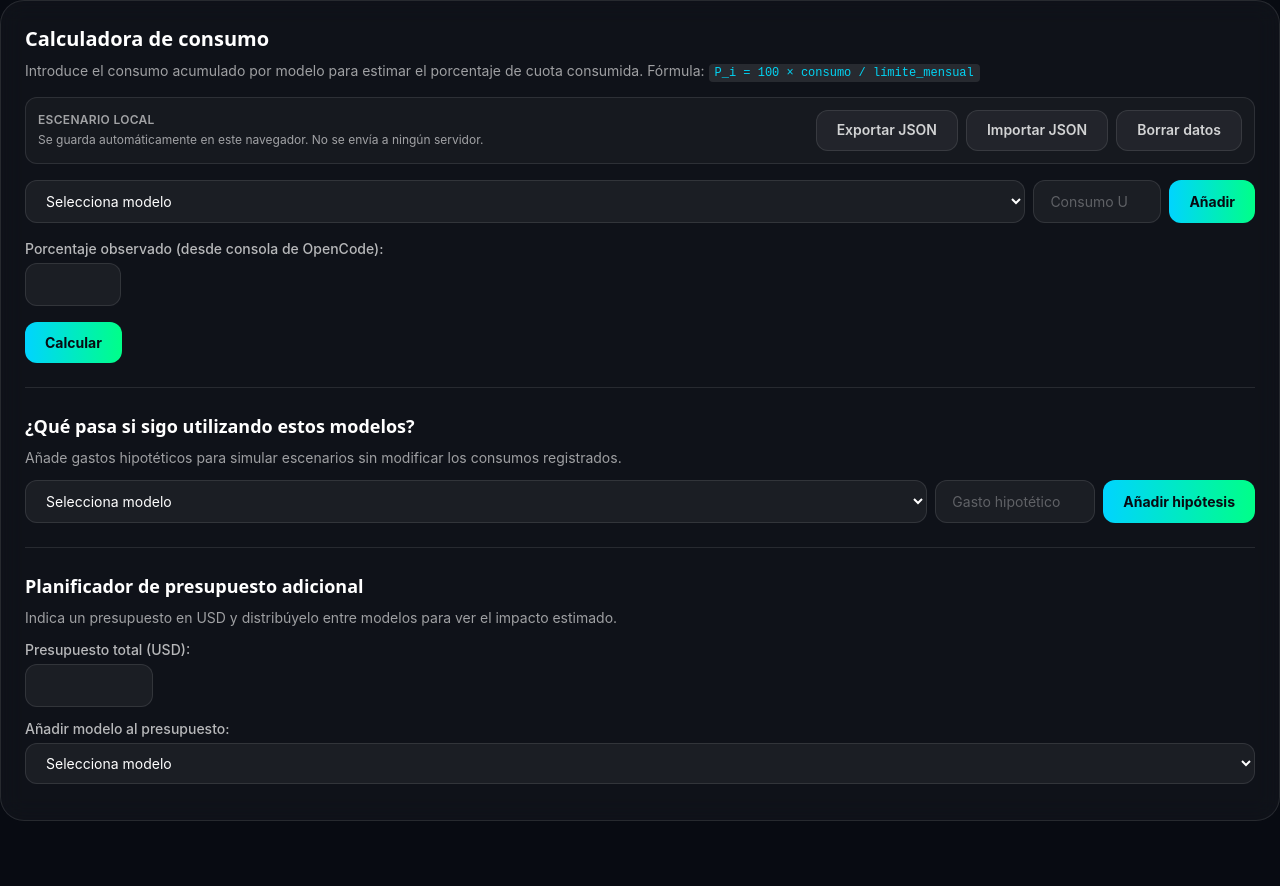
Test case: Calculator UI › adds consumption and calculates the shared quota
Expected: the heading "Calculadora de consumo" is shown, [25, 25, 269, 52]
Select "Kimi K3 ($15)" in the dropdown named "Seleccionar modelo" at point(525, 201), box [25, 180, 1025, 223]
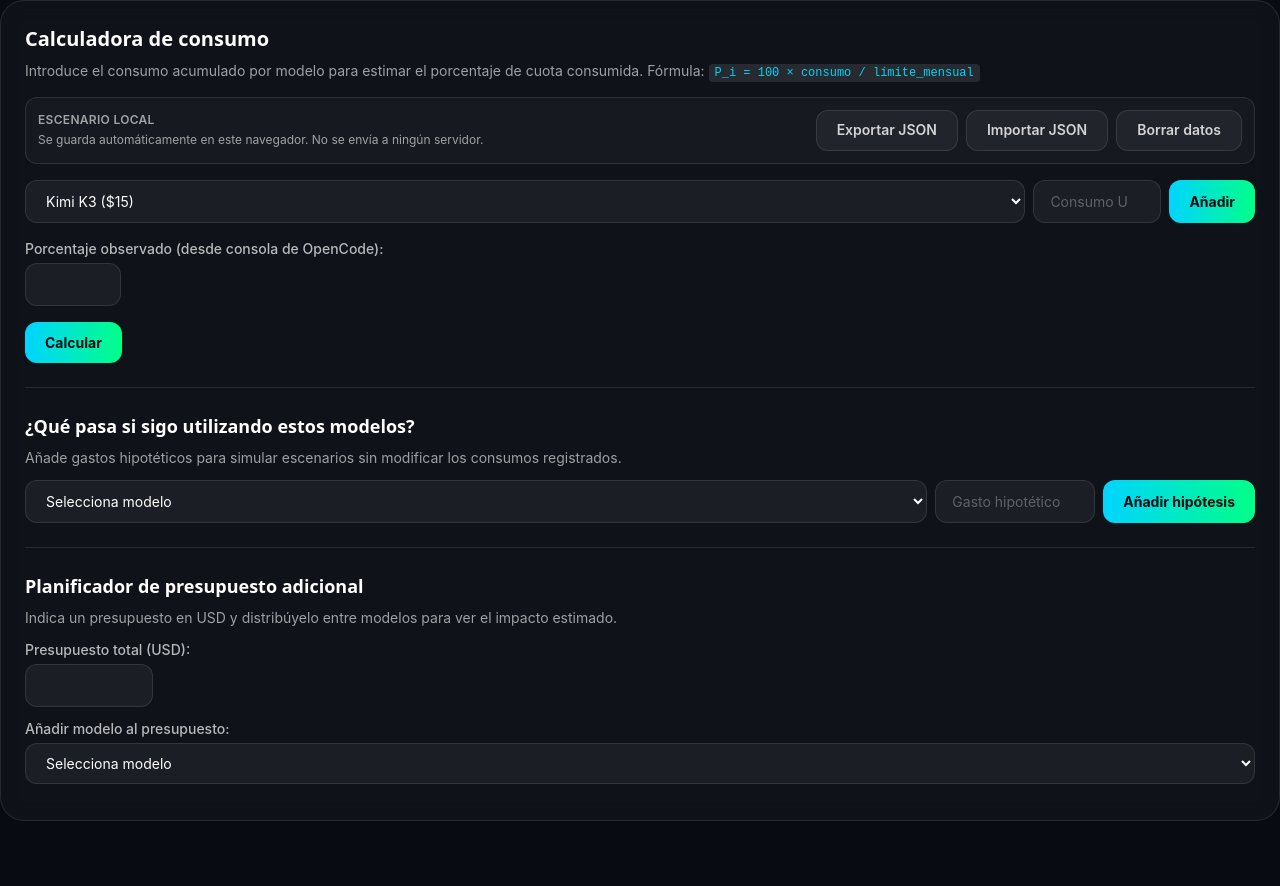
Type "7.5" into the number field named "Consumo en USD".
click(1097, 201); type("7.5")  # box [1033, 180, 1161, 223]
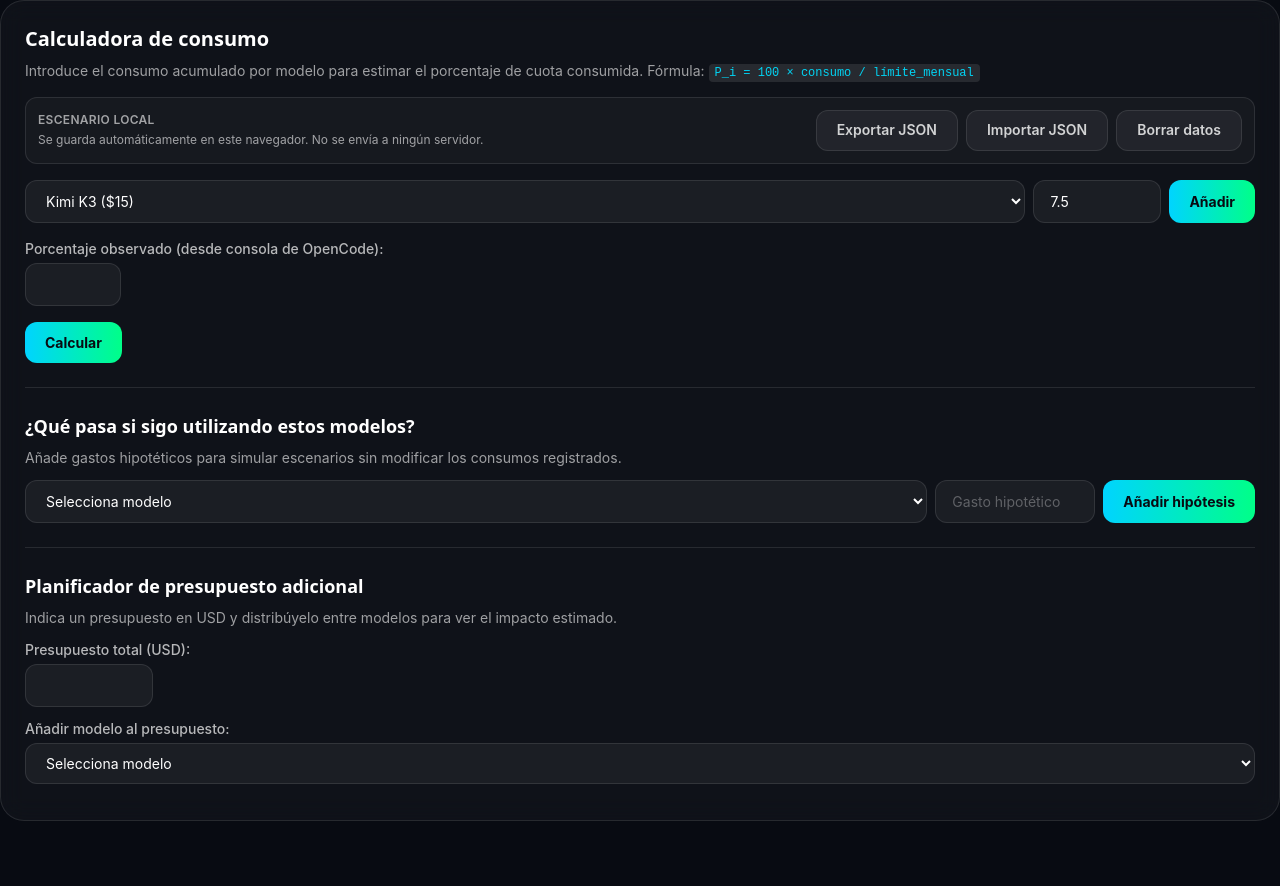
Click the button "Añadir".
click(1212, 201)  # box [1169, 180, 1255, 223]
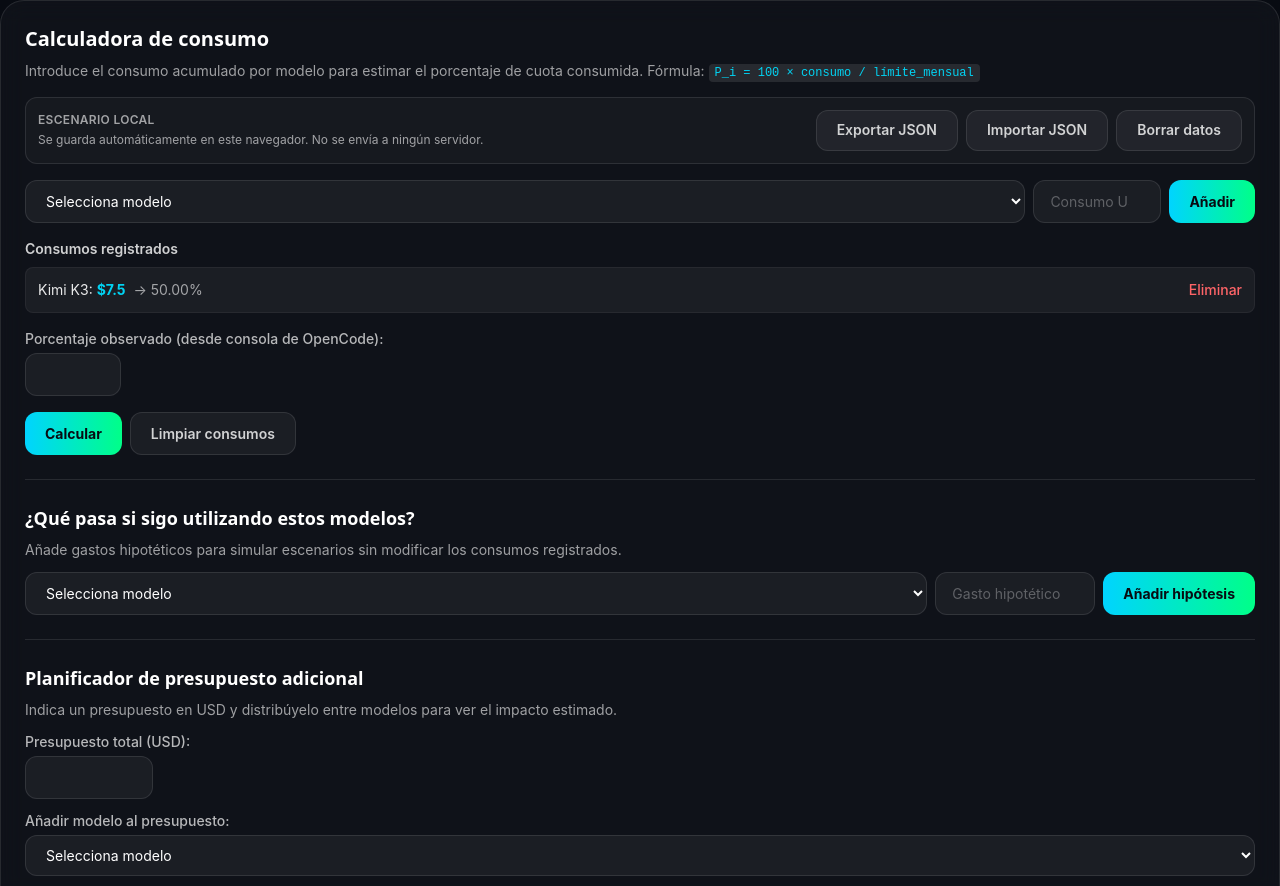
Now the text "Kimi K3" is shown, box [38, 281, 89, 298]
Now the text "$7.5" is shown, box [97, 281, 126, 298]
Click the button "Calcular".
click(73, 433)  # box [25, 412, 122, 455]
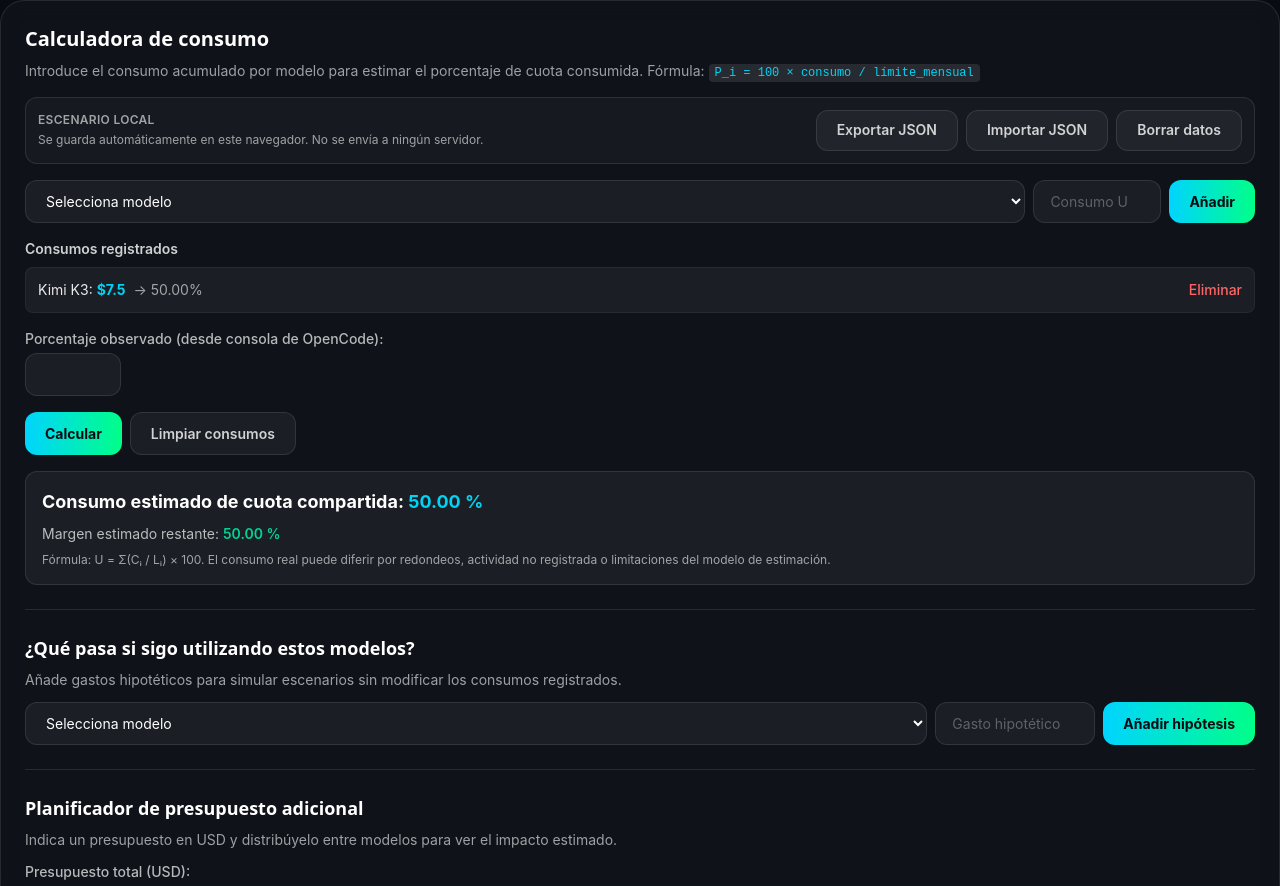
Now the text "→ 50.00%" is shown, box [134, 281, 203, 298]
Now the text "Consumo estimado de cuota compartida: 50.00 %" is shown, box [42, 491, 483, 512]
